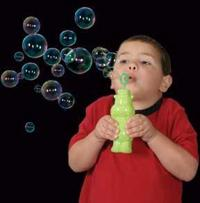person: (68, 35, 200, 203)
